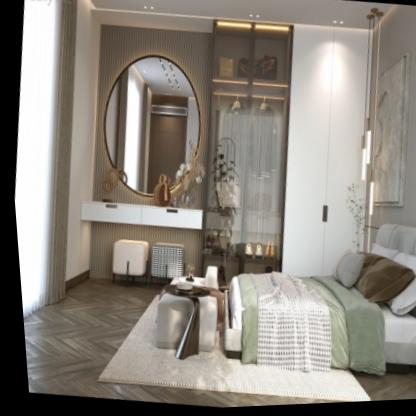Bed: (204, 201, 416, 388)
Curtains: (0, 0, 96, 326)
Transparent Closet: (181, 15, 309, 290)
Wall Panel: (67, 19, 225, 296), (363, 7, 416, 245)
Wooden floor: (19, 281, 321, 409)
